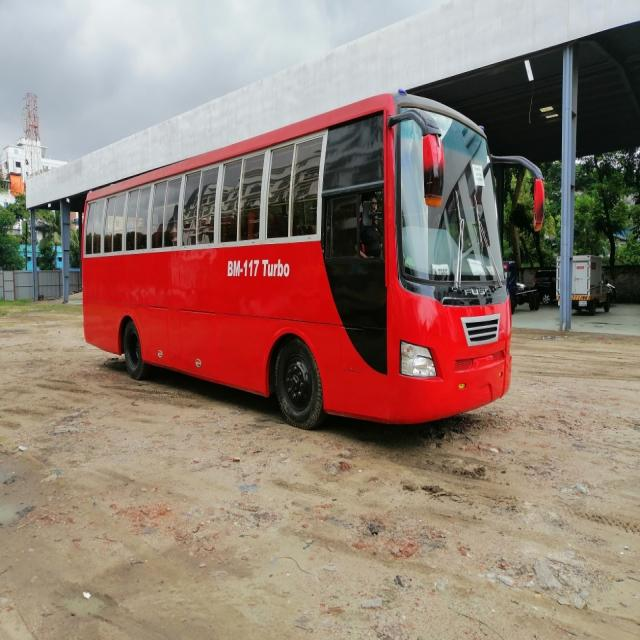bus: (66, 76, 550, 462)
